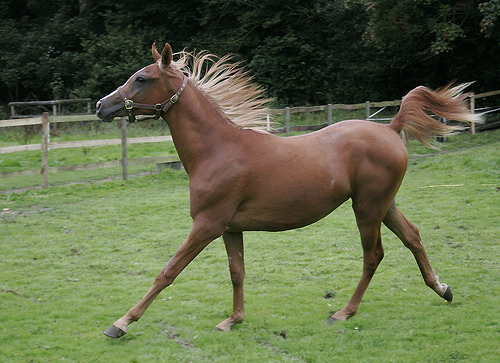horse: (80, 28, 500, 351)
